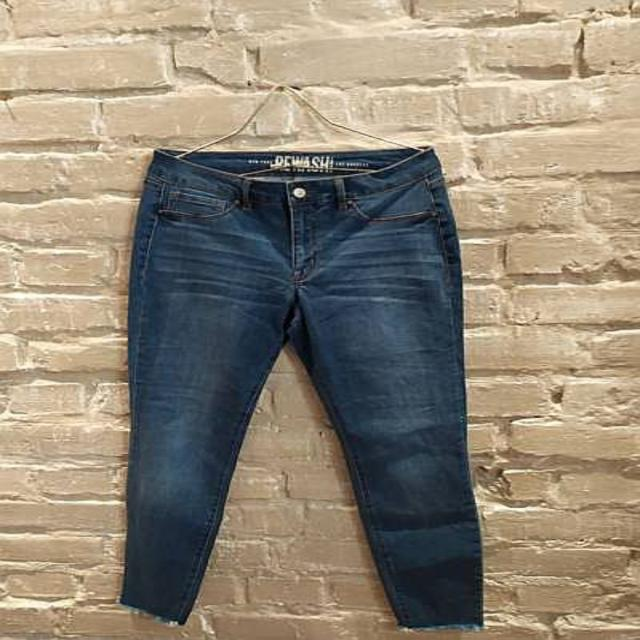TROUSER: (108, 139, 500, 630)
